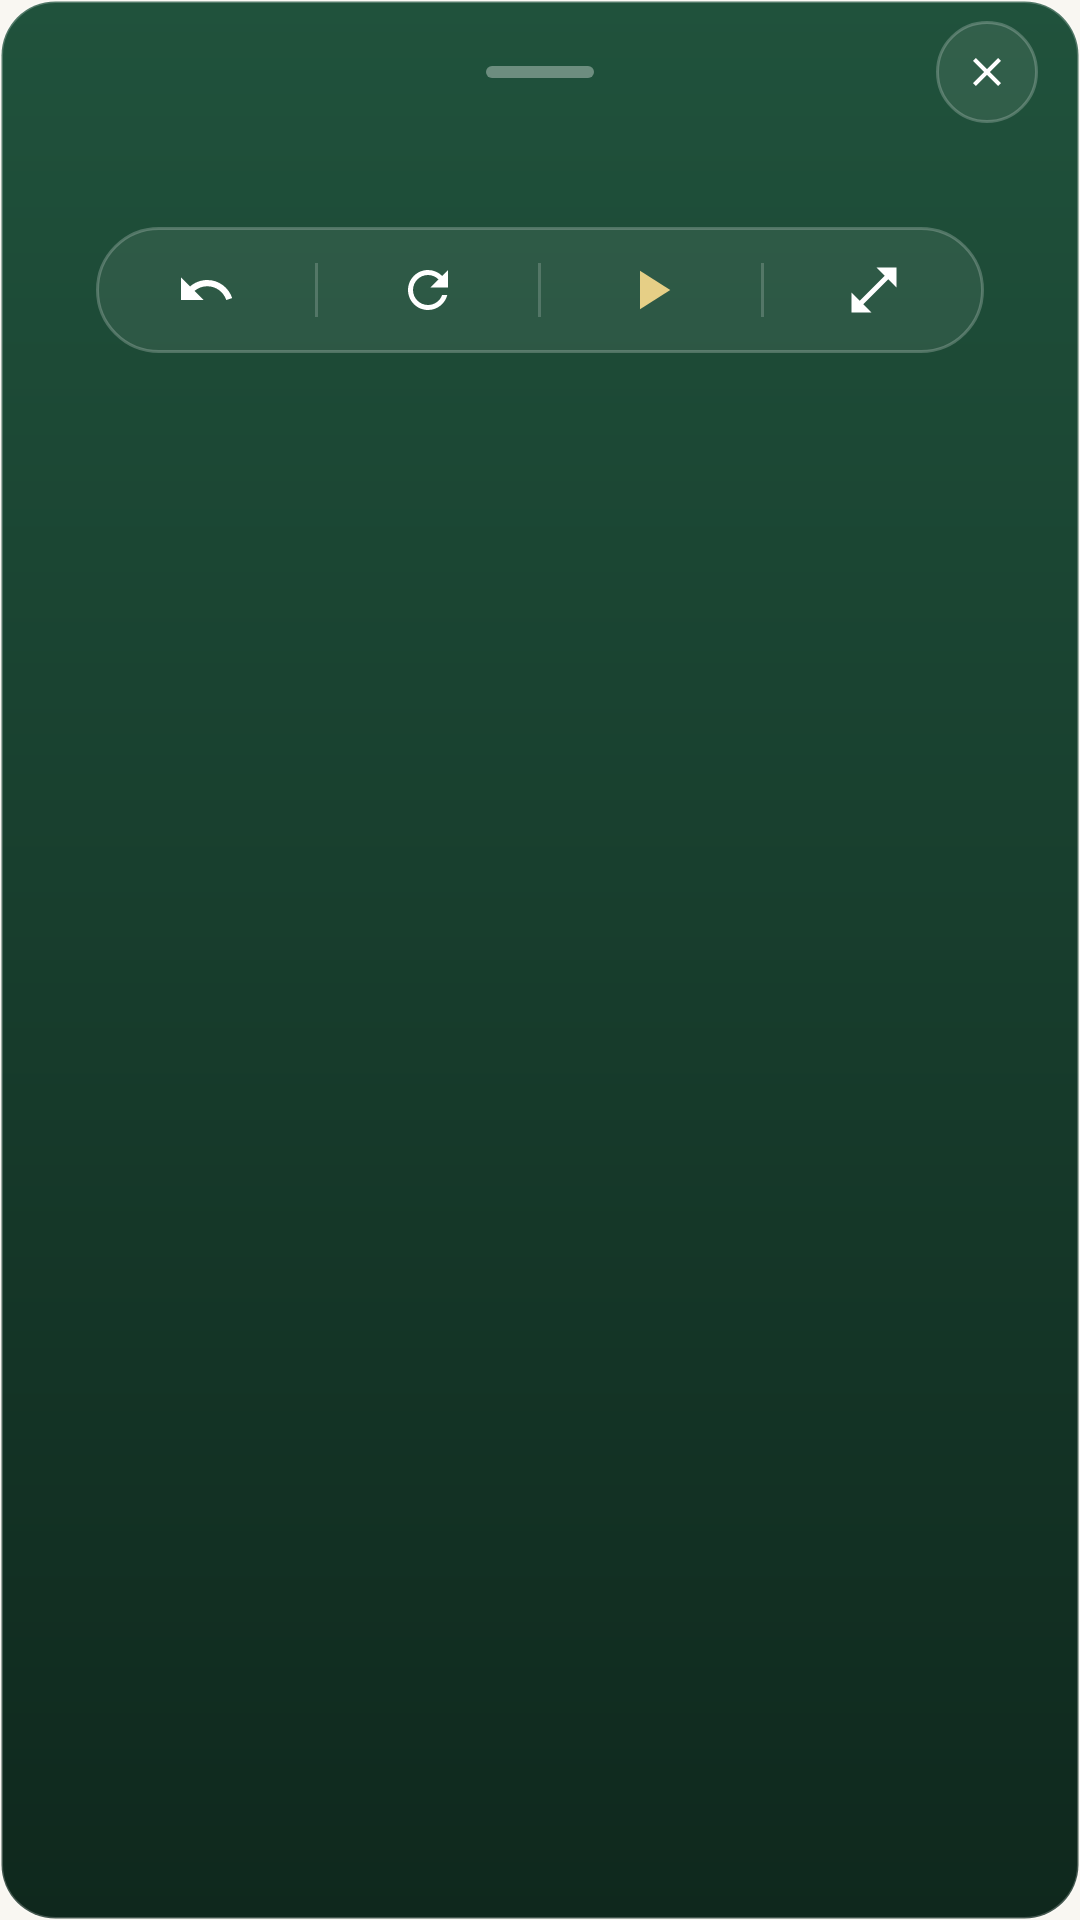

Named icons in this screenshot (1080 × 1920) and their bounding boxes, (x1, y1, x2, y2):
إغلاق: (936, 21, 1038, 123)
بدء القراءة: (541, 227, 761, 353)
تراجع خطوة: (96, 227, 315, 353)
تصفير: (318, 227, 538, 353)
فتح العدّاد في التطبيق: (764, 227, 984, 353)
